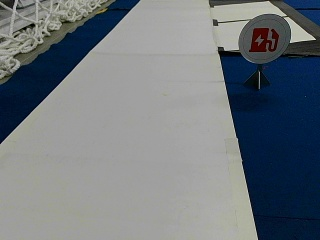battery: (238, 13, 290, 63)
